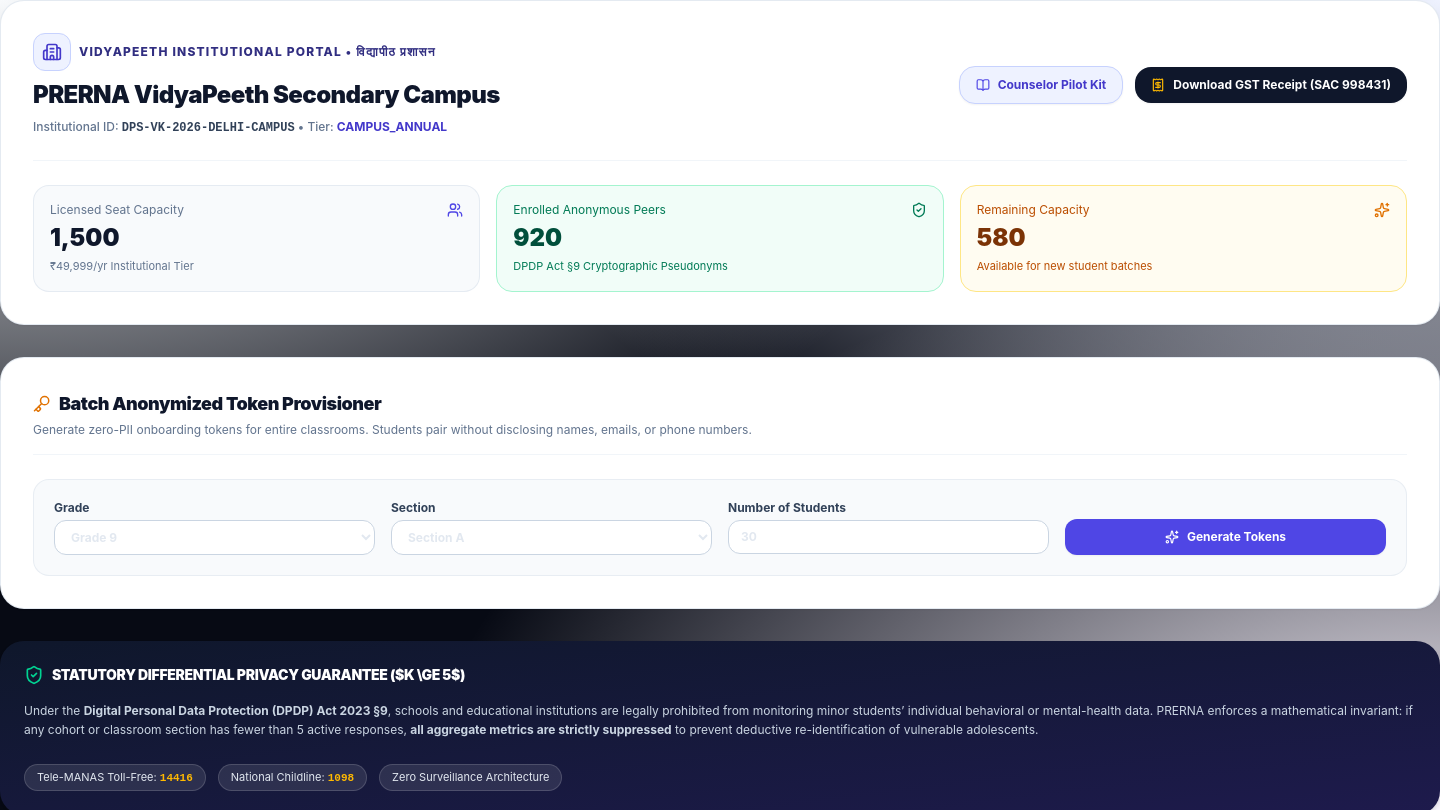
InstitutionalAdminPortal Component › generates pseudonymous batch tokens without any student PII
The width and height of the screenshot is (1440, 810).
Click the button "Generate Tokens" at coordinates (1226, 536), box [1065,518,1386,554]
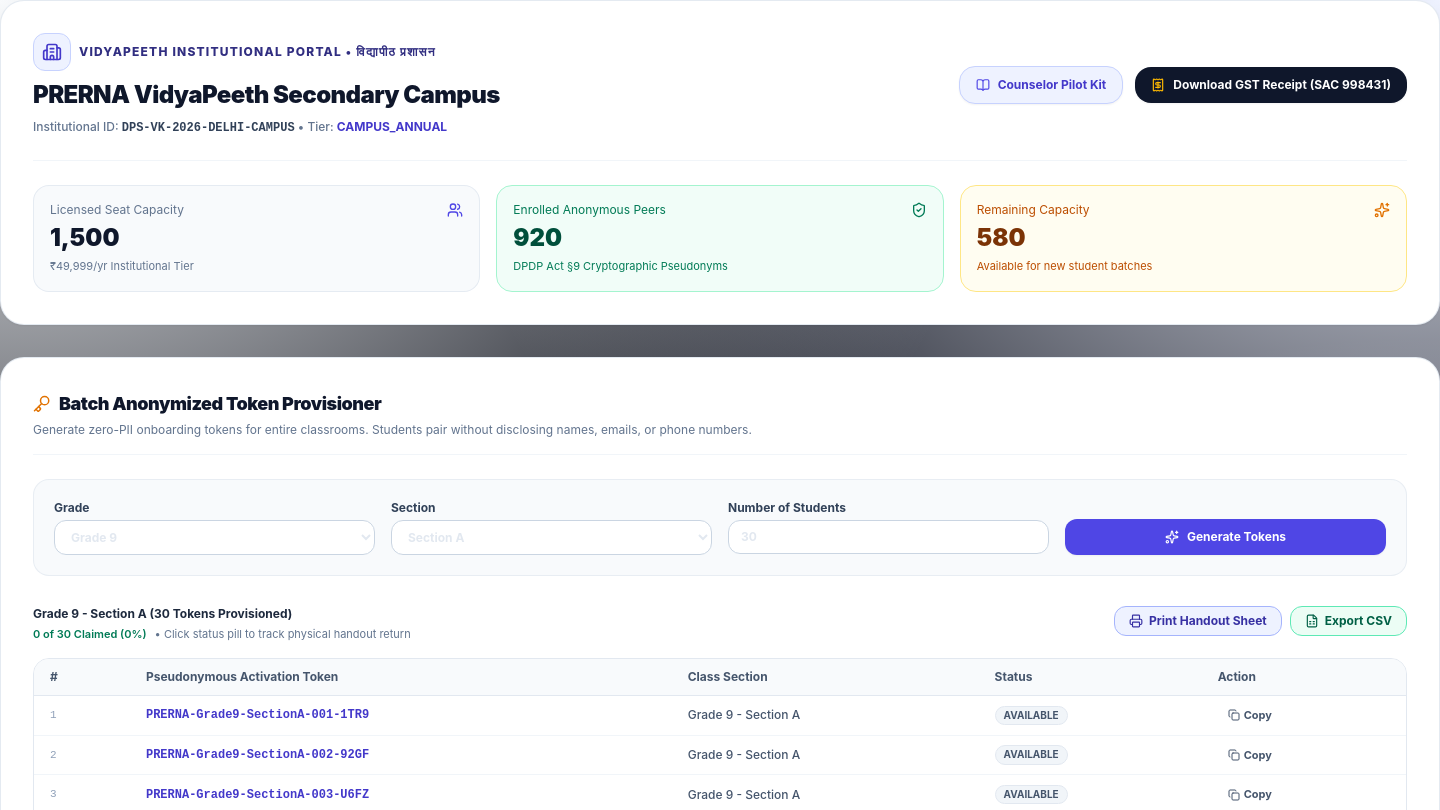
Now the column heading "Pseudonymous Activation Token" is shown, box [130,659,672,696]
Now the text "PRERNA-Grade9-SectionA-001-1TR9" is shown, box [130,696,672,735]
